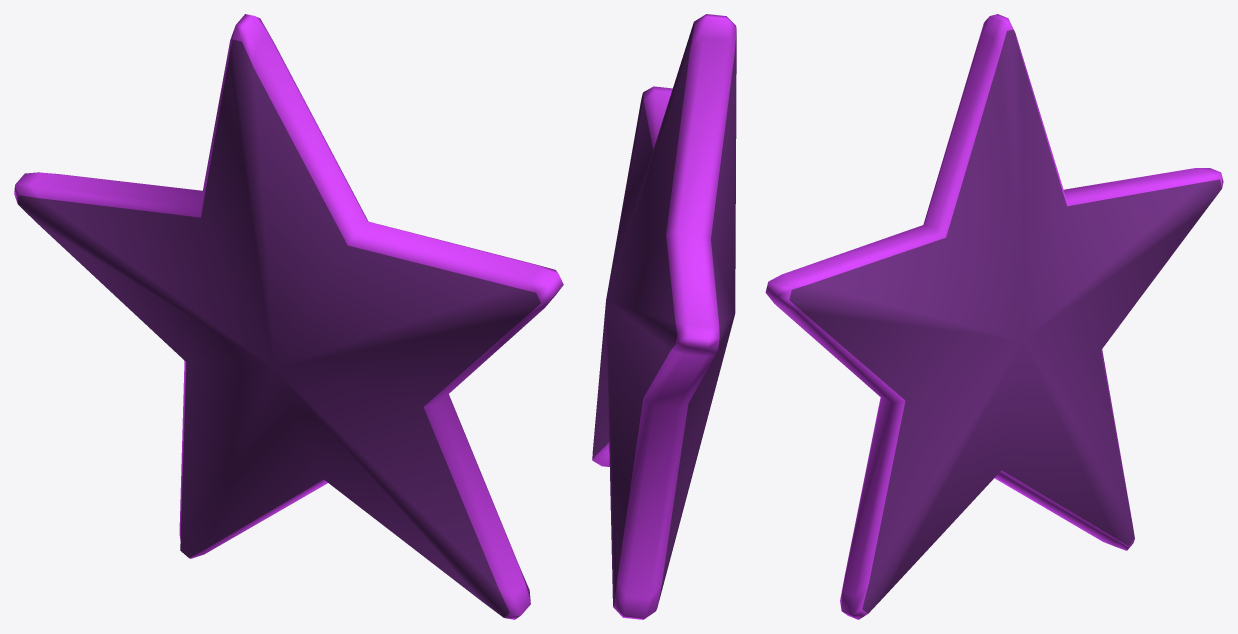
The model's file is Star.fbx.
The picture shows the model from 3 angles, left to right: view 1: azimuth 30°, elevation 25°; view 2: azimuth 150°, elevation 25°; view 3: azimuth 270°, elevation 25°; orthographic projection. The views are drawn at different scales.
Parts seen in each view (by area): view 1: star; view 2: star; view 3: star.
Part boxes in pixels (x1,y1,x2,y2): star: (14,14,563,619); star: (592,14,736,619); star: (765,14,1223,619).
Size of the model in its own units: 233 by 409 by 323.
